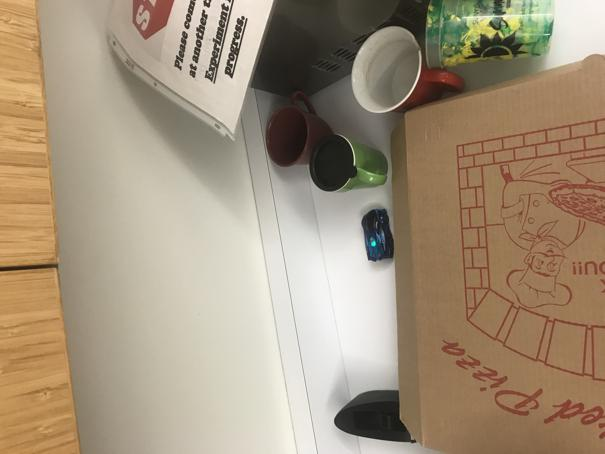Shock: (360, 208, 394, 261)
